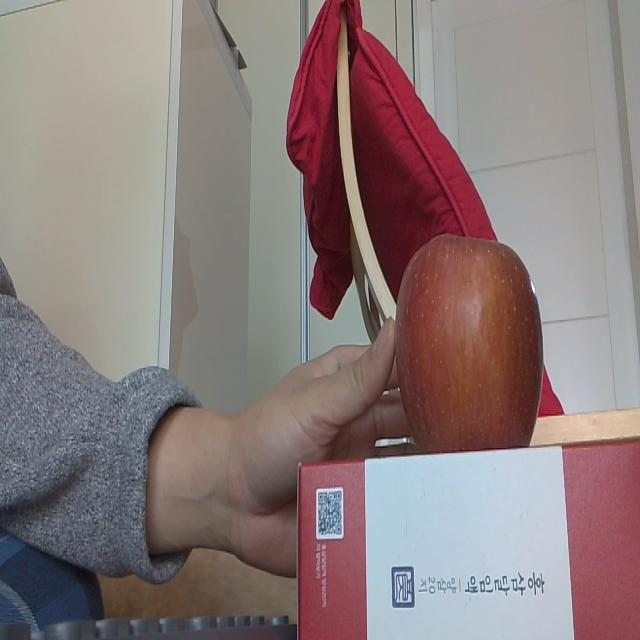apple: (397, 233, 543, 454)
